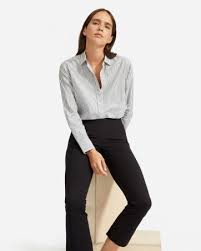F_W_pants: (58, 116, 152, 245)
F_shirt: (53, 47, 138, 152)
